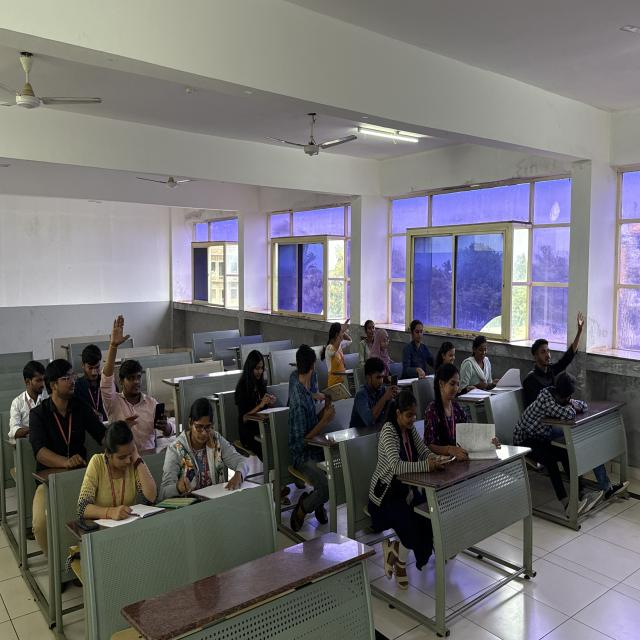Hand Rising: (104, 316, 169, 434), (521, 303, 600, 376), (326, 293, 358, 391)
Reading: (178, 369, 268, 518), (82, 401, 165, 561), (431, 362, 499, 472), (467, 338, 523, 404), (442, 336, 482, 420)
Sleeping: (528, 366, 594, 481)
Using Phone: (387, 392, 463, 547), (349, 354, 405, 426)
